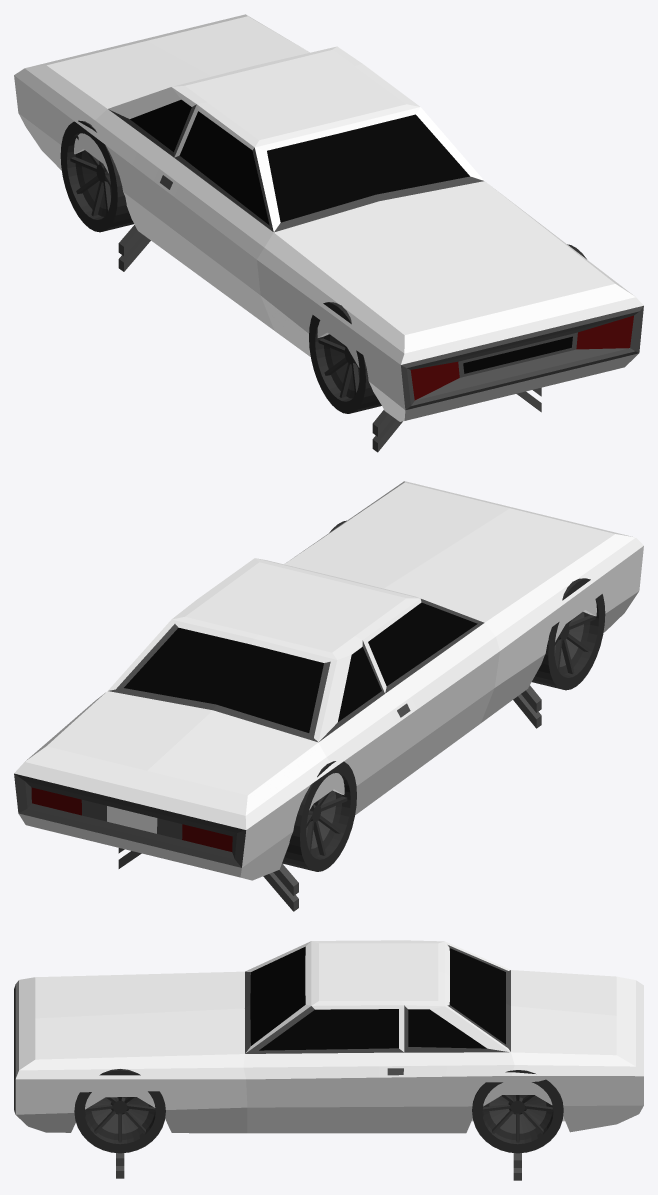
The model's file is car.glb.
The picture shows the model from 3 angles, top to bottom: view 1: azimuth 30°, elevation 25°; view 2: azimuth 150°, elevation 25°; view 3: azimuth 270°, elevation 25°; orthographic projection. The views are drawn at different scales.
Visible parts, largest first — view 1: Body, WheelBR, WheelFR, SuspensionBR, SuspensionFR; view 2: Body, WheelBR, WheelFR, SuspensionBR, SuspensionFR; view 3: Body, WheelBL, WheelFL.
Part boxes in pixels (left/top/right/bottom): Body: left=14, top=14, right=643, bottom=421; WheelBR: left=60, top=120, right=133, bottom=232; WheelFR: left=309, top=302, right=381, bottom=413; SuspensionBR: left=118, top=225, right=150, bottom=271; SuspensionFR: left=372, top=410, right=402, bottom=452; Body: left=14, top=481, right=643, bottom=880; WheelBR: left=282, top=761, right=356, bottom=871; WheelFR: left=532, top=578, right=605, bottom=690; SuspensionBR: left=263, top=863, right=298, bottom=911; SuspensionFR: left=513, top=685, right=541, bottom=728; Body: left=14, top=940, right=643, bottom=1133; WheelBL: left=472, top=1070, right=563, bottom=1153; WheelFL: left=74, top=1069, right=165, bottom=1153.
Size of what is drawn, in the model's own units: 1.63 by 1.39 by 4.55.
